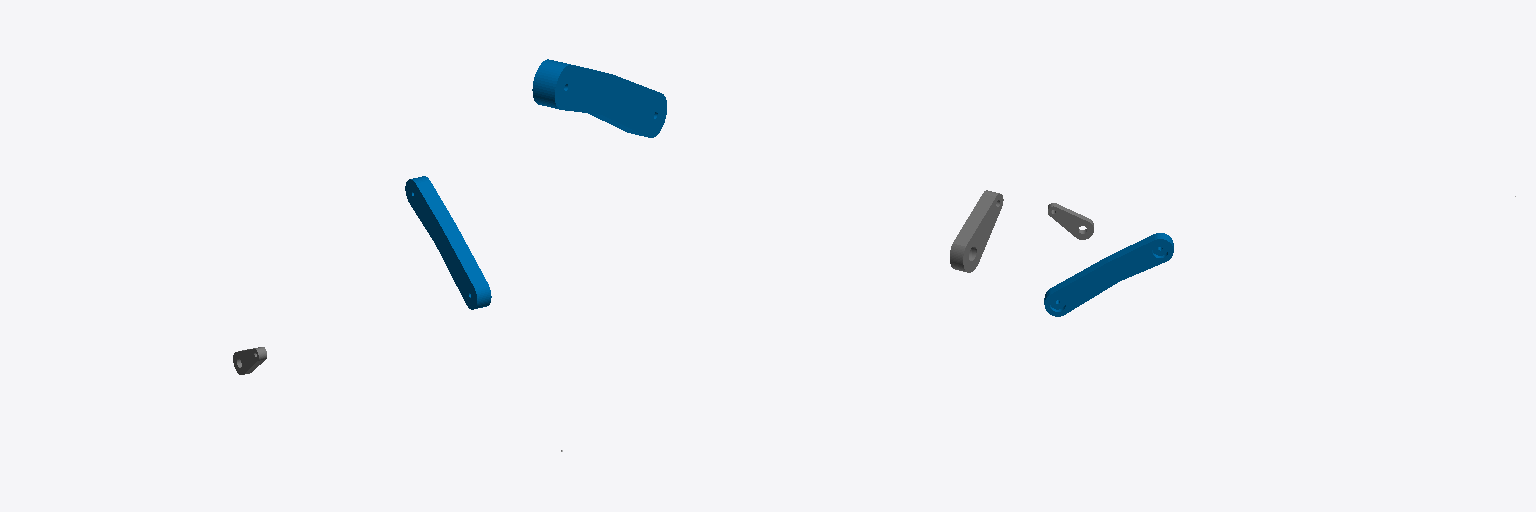
robot.urdf — visual:
<?xml version="1.0"?>
<robot name="visual">

  <material name="blue">
    <color rgba="0 0 0.8 1"/>
  </material>
  <material name="black">
    <color rgba="0 0 0 1"/>
  </material>
  <material name="white">
    <color rgba="1 1 1 1"/>
  </material>

  <link name="base_link">
    <visual>
      <geometry>
        <cylinder length="0.6" radius="0.2"/>
      </geometry>
      <material name="blue"/>
    </visual>
  </link>

  <link name="right_leg">
    <visual>
      <geometry>
        <box size="0.6 0.1 0.2"/>
      </geometry>
      <origin rpy="0 1.57075 0" xyz="0 0 -0.3"/>
      <material name="white"/>
    </visual>
  </link>

  <joint name="base_to_right_leg" type="fixed">
    <parent link="base_link"/>
    <child link="right_leg"/>
    <origin xyz="0 -0.22 0.25"/>
  </joint>

  <link name="right_base">
    <visual>
      <geometry>
        <box size="0.4 0.1 0.1"/>
      </geometry>
      <material name="white"/>
    </visual>
  </link>

  <joint name="right_base_joint" type="fixed">
    <parent link="right_leg"/>
    <child link="right_base"/>
    <origin xyz="0 0 -0.6"/>
  </joint>

  <link name="right_front_wheel">
    <visual>
      <origin rpy="1.57075 0 0" xyz="0 0 0"/>
      <geometry>
        <cylinder length="0.1" radius="0.035"/>
      </geometry>
      <material name="black"/>
    </visual>
  </link>
  <joint name="right_front_wheel_joint" type="fixed">
    <parent link="right_base"/>
    <child link="right_front_wheel"/>
    <origin rpy="0 0 0" xyz="0.133333333333 0 -0.085"/>
  </joint>

  <link name="right_back_wheel">
    <visual>
      <origin rpy="1.57075 0 0" xyz="0 0 0"/>
      <geometry>
        <cylinder length="0.1" radius="0.035"/>
      </geometry>
      <material name="black"/>
    </visual>
  </link>
  <joint name="right_back_wheel_joint" type="fixed">
    <parent link="right_base"/>
    <child link="right_back_wheel"/>
    <origin rpy="0 0 0" xyz="-0.133333333333 0 -0.085"/>
  </joint>

  <link name="left_leg">
    <visual>
      <geometry>
        <box size="0.6 0.1 0.2"/>
      </geometry>
      <origin rpy="0 1.57075 0" xyz="0 0 -0.3"/>
      <material name="white"/>
    </visual>
  </link>

  <joint name="base_to_left_leg" type="fixed">
    <parent link="base_link"/>
    <child link="left_leg"/>
    <origin xyz="0 0.22 0.25"/>
  </joint>

  <link name="left_base">
    <visual>
      <geometry>
        <box size="0.4 0.1 0.1"/>
      </geometry>
      <material name="white"/>
    </visual>
  </link>

  <joint name="left_base_joint" type="fixed">
    <parent link="left_leg"/>
    <child link="left_base"/>
    <origin xyz="0 0 -0.6"/>
  </joint>

  <link name="left_front_wheel">
    <visual>
      <origin rpy="1.57075 0 0" xyz="0 0 0"/>
      <geometry>
        <cylinder length="0.1" radius="0.035"/>
      </geometry>
      <material name="black"/>
    </visual>
  </link>
  <joint name="left_front_wheel_joint" type="fixed">
    <parent link="left_base"/>
    <child link="left_front_wheel"/>
    <origin rpy="0 0 0" xyz="0.133333333333 0 -0.085"/>
  </joint>

  <link name="left_back_wheel">
    <visual>
      <origin rpy="1.57075 0 0" xyz="0 0 0"/>
      <geometry>
        <cylinder length="0.1" radius="0.035"/>
      </geometry>
      <material name="black"/>
    </visual>
  </link>
  <joint name="left_back_wheel_joint" type="fixed">
    <parent link="left_base"/>
    <child link="left_back_wheel"/>
    <origin rpy="0 0 0" xyz="-0.133333333333 0 -0.085"/>
  </joint>

  <joint name="gripper_extension" type="fixed">
    <parent link="base_link"/>
    <child link="gripper_pole"/>
    <origin rpy="0 0 0" xyz="0.19 0 0.2"/>
  </joint>

  <link name="gripper_pole">
    <visual>
      <geometry>
        <cylinder length="0.2" radius="0.01"/>
      </geometry>
      <origin rpy="0 1.57075 0 " xyz="0.1 0 0"/>
    </visual>
  </link>

  <joint name="left_gripper_joint" type="fixed">
    <origin rpy="0 0 0" xyz="0.2 0.01 0"/>
    <parent link="gripper_pole"/>
    <child link="left_gripper"/>
  </joint>

  <link name="left_gripper">
    <visual>
      <origin rpy="0.0 0 0" xyz="0 0 0"/>
      <geometry>
        <mesh filename="package://urdf_test/meshes/l_finger.dae"/>
      </geometry>
    </visual>
  </link>

  <joint name="left_tip_joint" type="fixed">
    <parent link="left_gripper"/>
    <child link="left_tip"/>
  </joint>

  <link name="left_tip">
    <visual>
      <origin rpy="0.0 0 0" xyz="0.09137 0.00495 0"/>
      <geometry>
        <mesh filename="package://urdf_test/meshes/l_finger_tip.dae"/>
      </geometry>
    </visual>
  </link>
  <joint name="right_gripper_joint" type="fixed">
    <origin rpy="0 0 0" xyz="0.2 -0.01 0"/>
    <parent link="gripper_pole"/>
    <child link="right_gripper"/>
  </joint>

  <link name="right_gripper">
    <visual>
      <origin rpy="-3.1415 0 0" xyz="0 0 0"/>
      <geometry>
        <!-- <mesh filename="package://urdf_test/meshes/l_finger.dae"/> -->
        <mesh filename="package://urdf_test/meshes/Thigh-down_Right_v4_1.stl"/>

      </geometry>
    </visual>
  </link>

  <joint name="right_tip_joint" type="fixed">
    <parent link="right_gripper"/>
    <child link="right_tip"/>
  </joint>

  <link name="right_tip">
    <visual>
      <origin rpy="-3.1415 0 0" xyz="0.09137 0.00495 0"/>
      <geometry>
        <!-- <mesh filename="package://urdf_test/meshes/l_finger_tip.dae"/> -->
        <mesh filename="package://urdf_test/meshes/servo_arm_v3__1__1.stl" scale="1 1 1"/>

      </geometry>
        <material>
            <color rgba="0.5 0.5 0.5 1.0"/> <!-- Gray color -->
        </material>
    </visual>
  </link>

  <link name="head">
    <visual>
      <geometry>
        <sphere radius="0.2"/>
      </geometry>
      <material name="white"/>
    </visual>
  </link>
  <joint name="head_swivel" type="fixed">
    <parent link="base_link"/>
    <child link="head"/>
    <origin xyz="0 0 0.3"/>
  </joint>

  <link name="box">
    <visual>
      <geometry>
        <box size="0.08 0.08 0.08"/>
      </geometry>
      <material name="blue"/>
    </visual>
  </link>

  <joint name="tobox" type="fixed">
    <parent link="head"/>
    <child link="box"/>
    <origin xyz="0.1814 0 0.1414"/>
  </joint>
</robot>

--- Render facts (derived) ---
3 views of the same robot in one strip: view 1: azimuth 30°, elevation 25°; view 2: azimuth 150°, elevation 25°; view 3: azimuth 270°, elevation 25° (orthographic).
Model visual with 16 links and 15 joints (15 fixed), rooted at base_link, posed every joint at zero.
Visible links, largest first — view 1: right_gripper, right_tip; view 2: right_gripper, right_tip; view 3: right_gripper, right_tip.
Link boxes in pixels (x1,y1,x2,y2): right_gripper: [405, 176, 491, 309]; right_tip: [233, 347, 266, 374]; right_gripper: [532, 59, 666, 137]; right_tip: [950, 190, 1003, 272]; right_gripper: [1044, 233, 1173, 316]; right_tip: [1048, 203, 1093, 239].
Bounding box of the posed robot: 162 × 318 × 73.47 m (x, y, z).
2 mesh visuals loaded from 4 distinct referenced files (2 binary STL); not drawn: 2 (reference not matched to a file when rendering).
